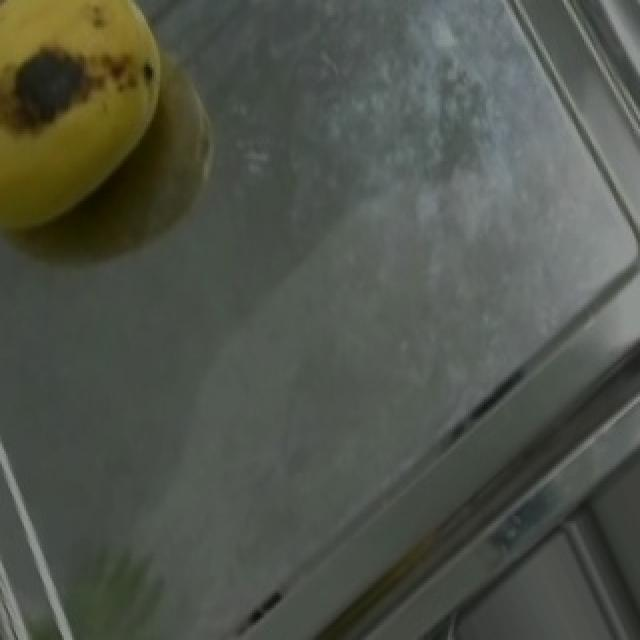fruit: (0, 0, 194, 273), (0, 0, 182, 114)
